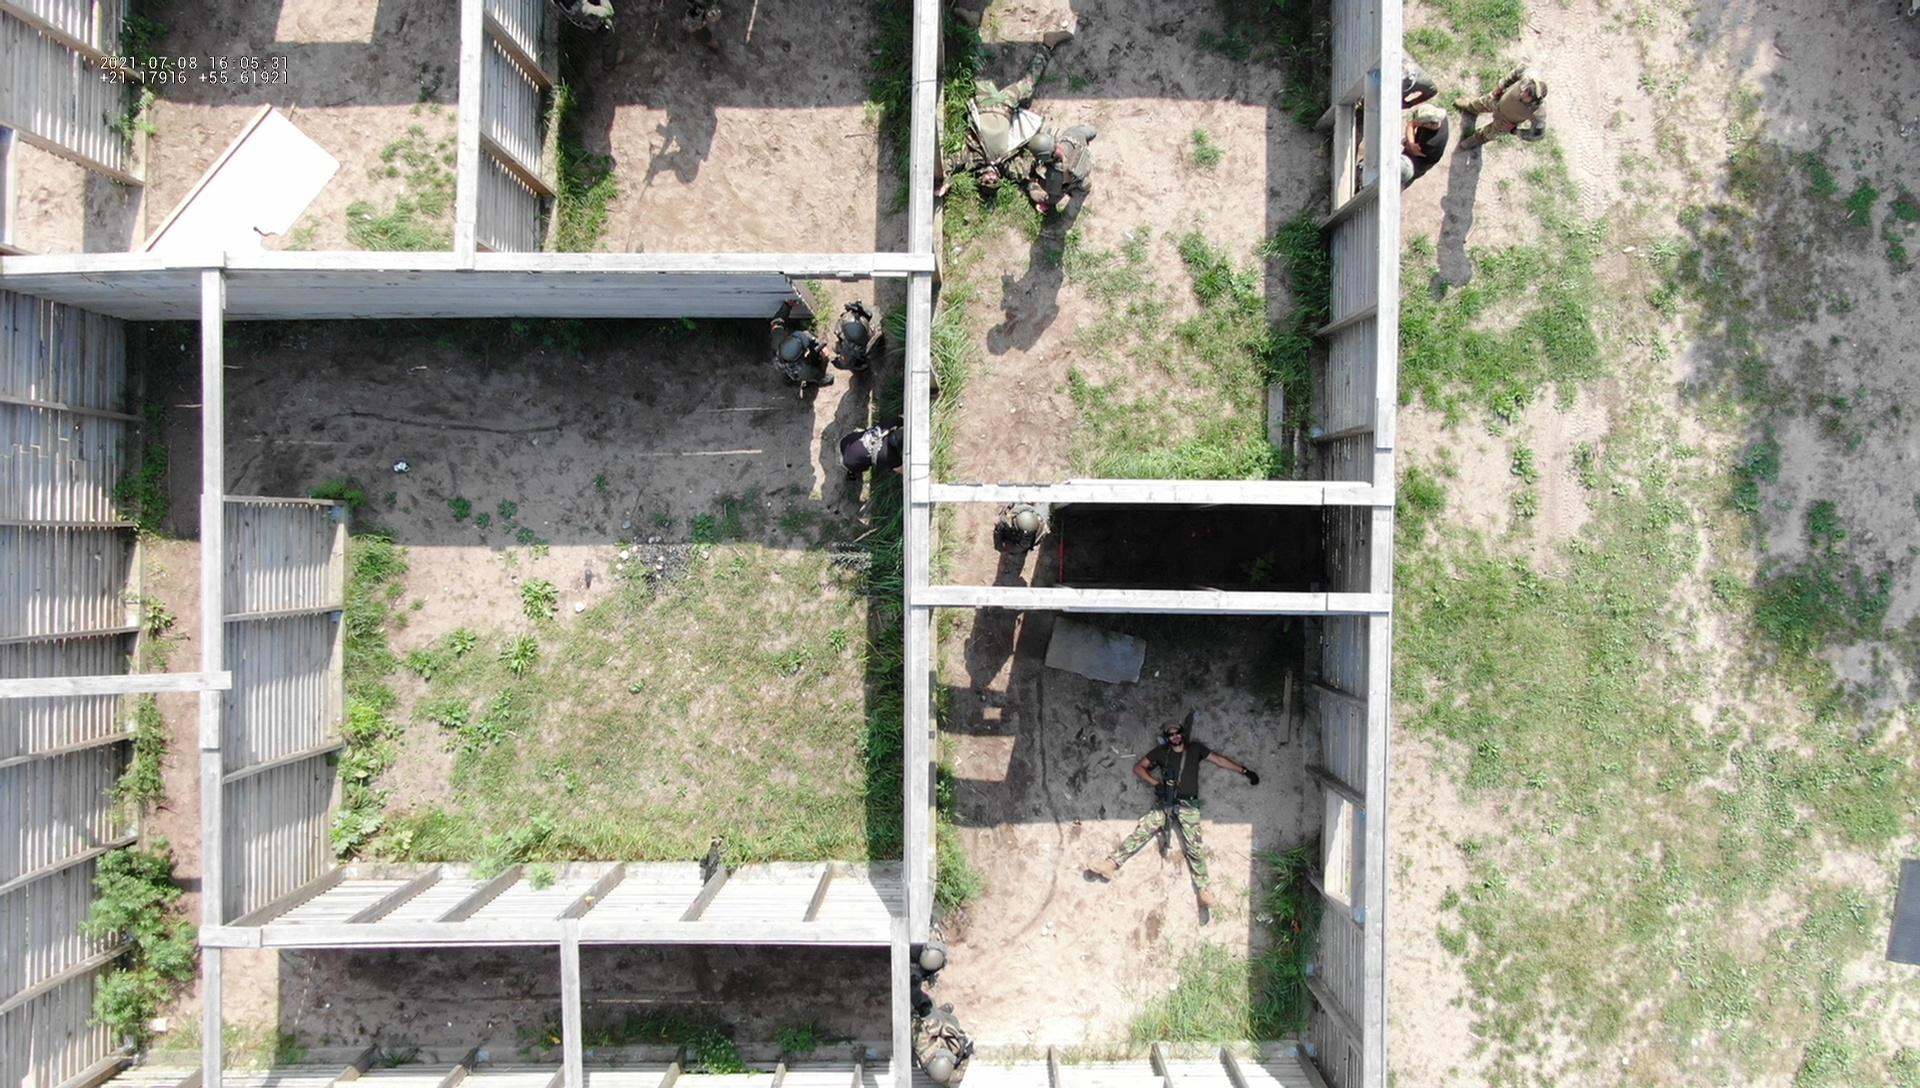Soldier: (1089, 713, 1269, 924), (931, 36, 1056, 218), (1455, 61, 1553, 162), (1014, 111, 1098, 218), (727, 309, 816, 405), (810, 285, 891, 382), (911, 1002, 980, 1088), (992, 500, 1062, 570)
